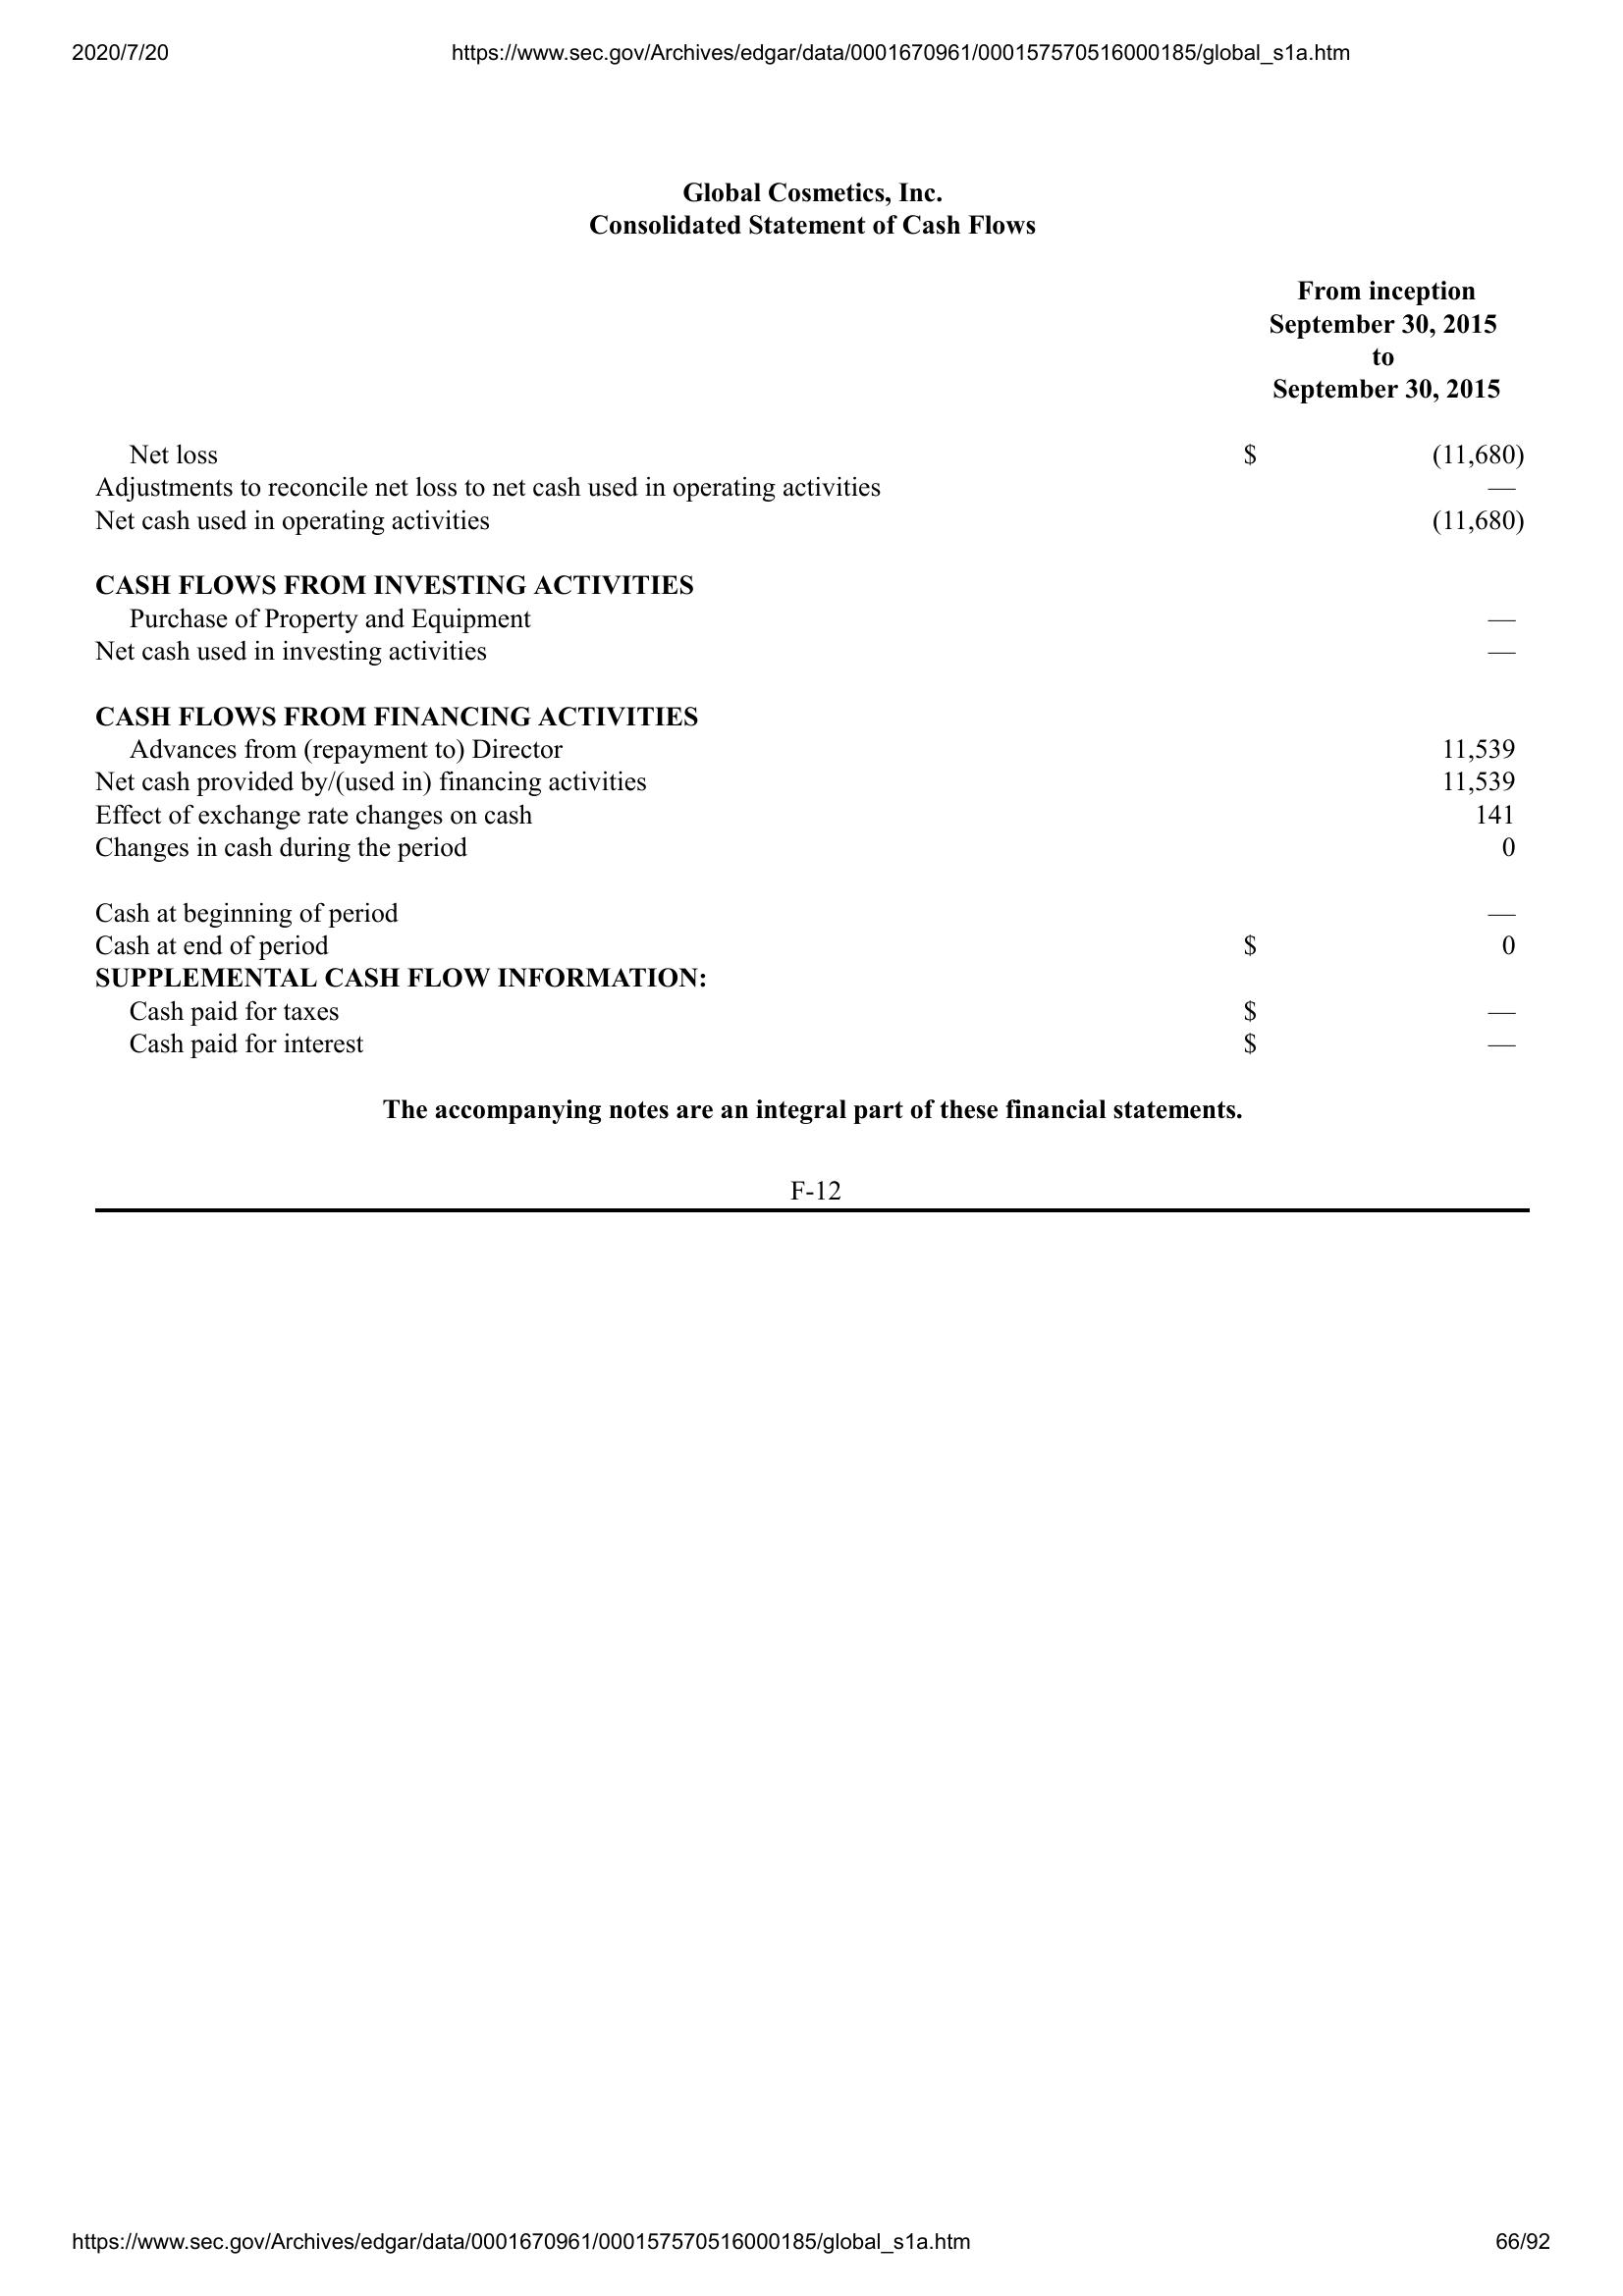table: (84, 269, 1537, 1076)
